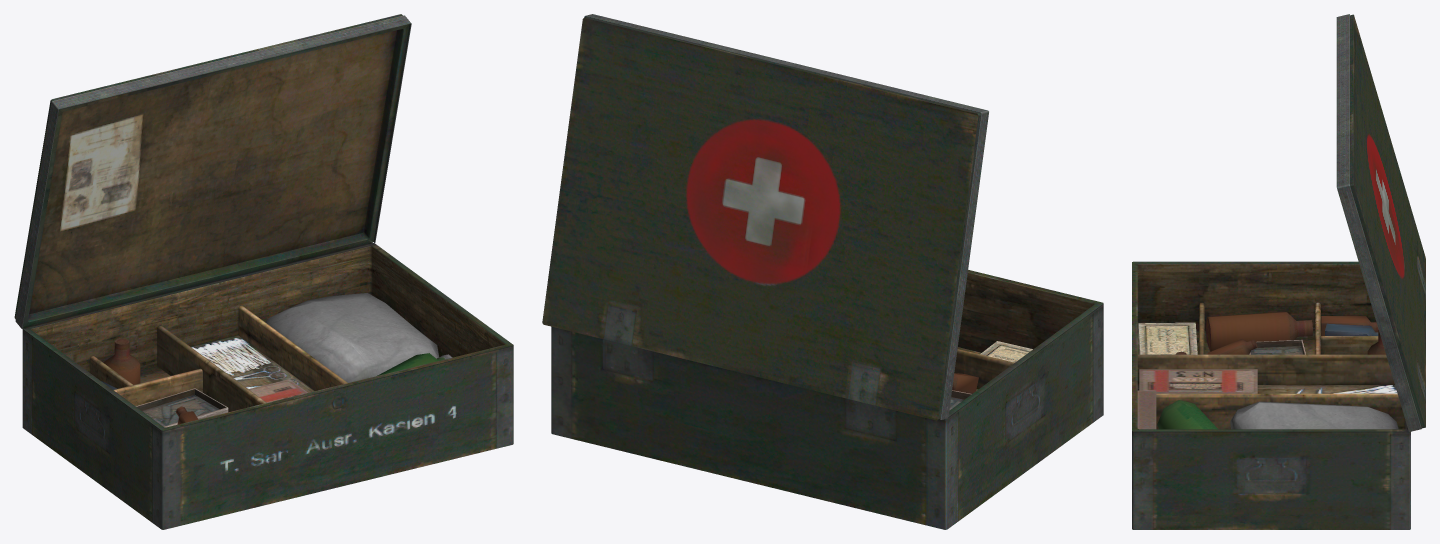
File: VV_Medical_Crate_Open.fbx
3 views of the same model, side by side, from view 1: azimuth 30°, elevation 25°; view 2: azimuth 150°, elevation 25°; view 3: azimuth 270°, elevation 25° (orthographic). The views are drawn at different scales.
Visible parts, largest first — view 1: VV_Medical_Crate_Open; view 2: VV_Medical_Crate_Open; view 3: VV_Medical_Crate_Open.
Boxes of the visible parts, x1,y1,x2,y2 form: VV_Medical_Crate_Open: (14, 14, 513, 529); VV_Medical_Crate_Open: (542, 14, 1103, 529); VV_Medical_Crate_Open: (1132, 14, 1425, 529).
Bounding box in the file's own units: 103 × 96.88 × 74.55.
1 material, 1 textured.
